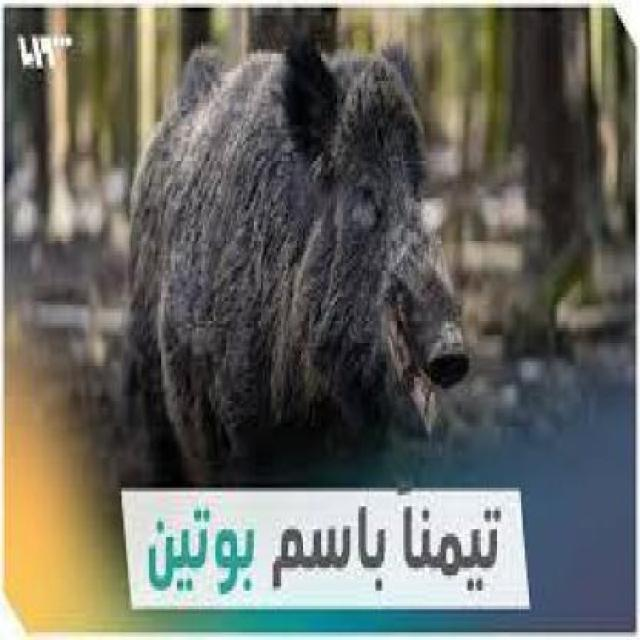wildboar: (107, 14, 481, 509)
